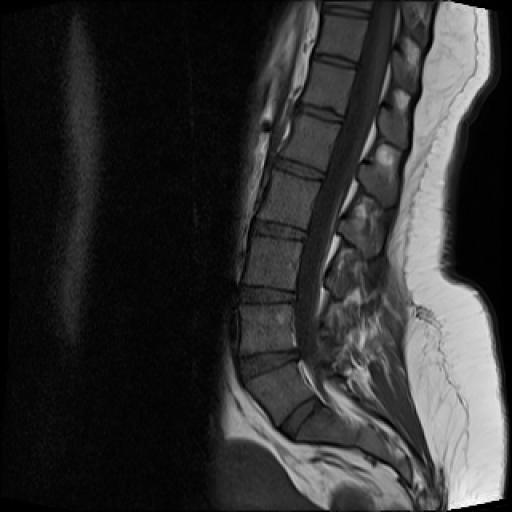L1: (281, 114, 340, 170)
L2: (258, 170, 321, 228)
L3: (242, 237, 301, 288)
L4: (240, 305, 295, 354)
L5: (246, 362, 313, 426)
S1: (296, 403, 356, 446)
